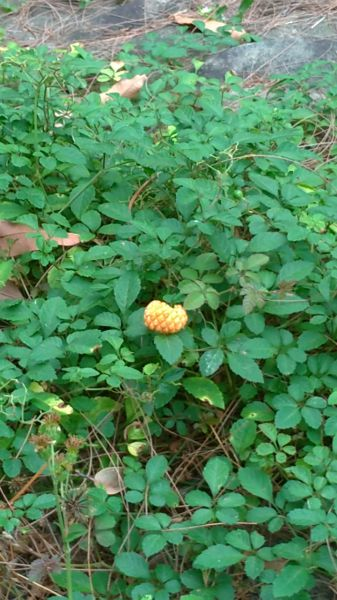eggs: (140, 294, 190, 337)
